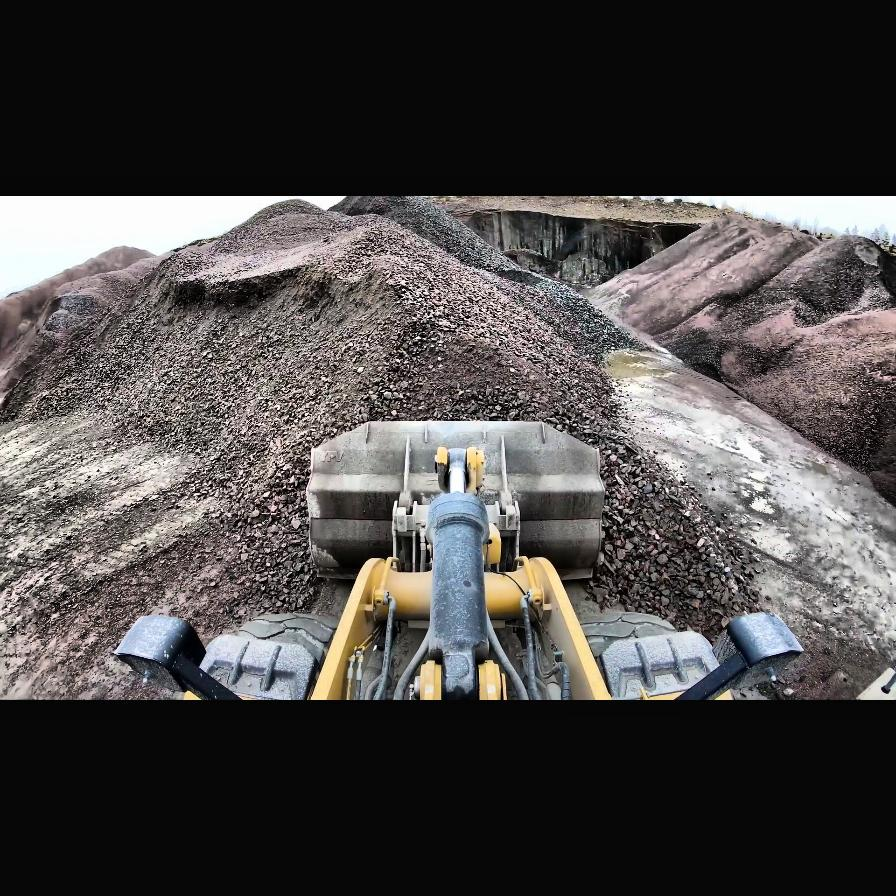anchor: (435, 446, 485, 494)
pile of gravel: (148, 199, 762, 637), (576, 216, 895, 514), (148, 210, 562, 428), (1, 246, 166, 428), (599, 211, 815, 346)
